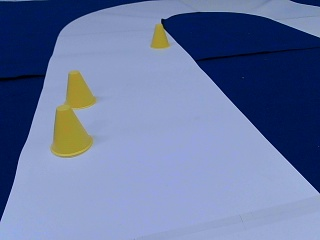cone: (50, 106, 92, 156), (62, 71, 96, 107), (151, 24, 168, 48)
